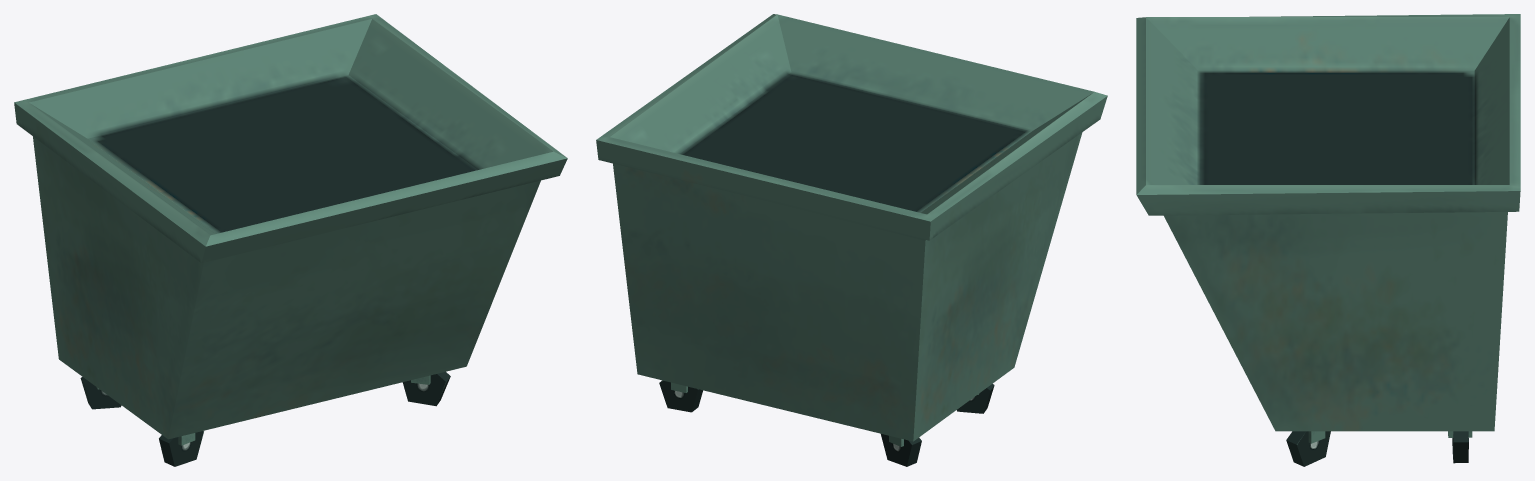
File: Dumpster.fbx
3 views of the same model, side by side, from view 1: azimuth 30°, elevation 25°; view 2: azimuth 150°, elevation 25°; view 3: azimuth 270°, elevation 25° (orthographic). The views are drawn at different scales.
Visible parts, largest first — view 1: polySurface6; view 2: polySurface6; view 3: polySurface6.
Part boxes in pixels (<box>): polySurface6: <box>14,14,567,466</box>; polySurface6: <box>596,14,1107,466</box>; polySurface6: <box>1136,14,1520,466</box>.
Size of the model in its own units: 10.53 by 8.28 by 9.66.
